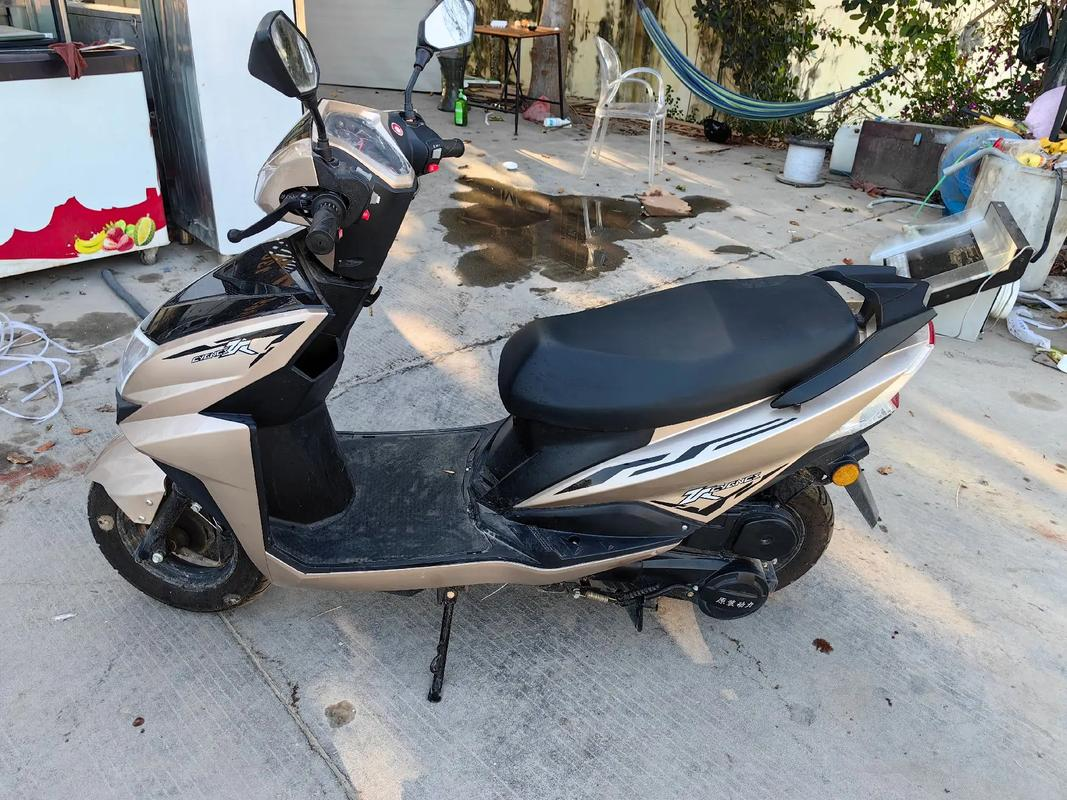摩托车: (56, 2, 1030, 648)
